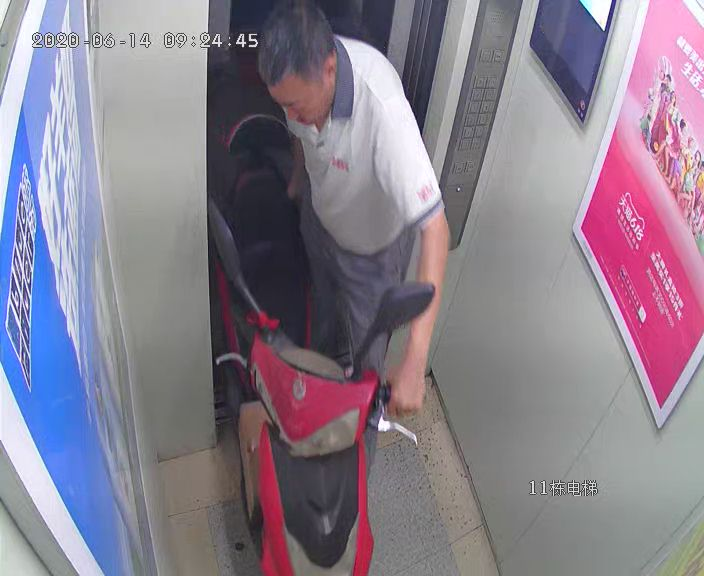Electric-bicycle: (217, 114, 438, 576)
